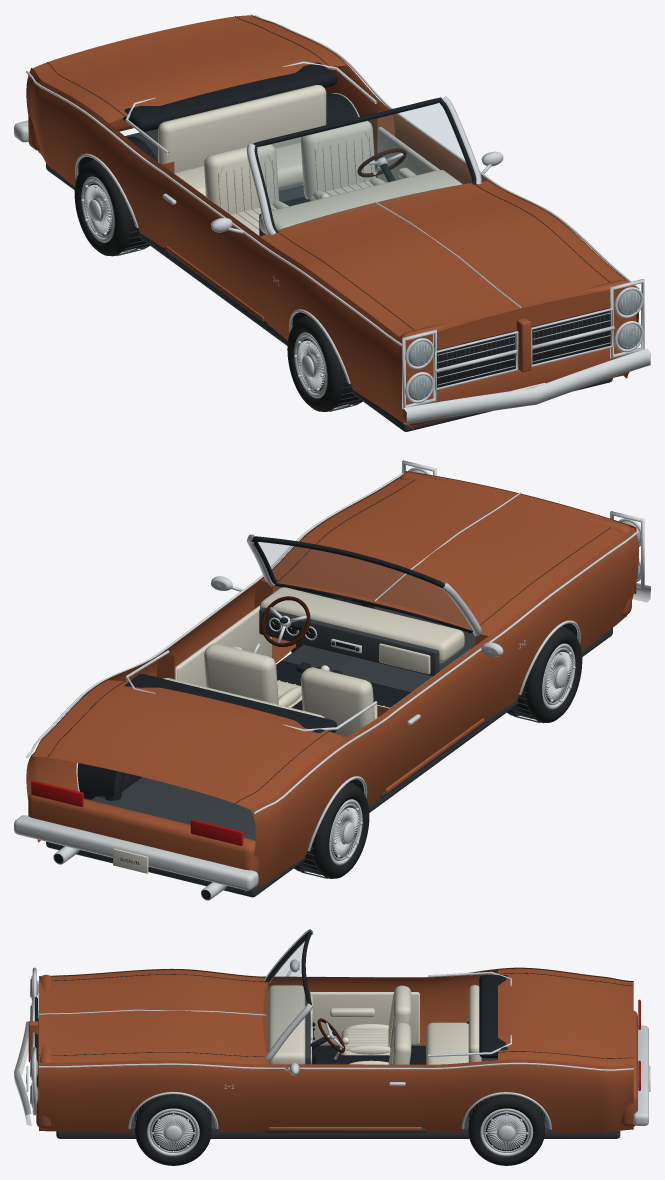
Rendered from craig.glb.
3 views of the same model, one above another, from view 1: azimuth 30°, elevation 25°; view 2: azimuth 150°, elevation 25°; view 3: azimuth 270°, elevation 25° (orthographic). The views are drawn at different scales.
Visible parts, largest first — view 1: Body, DoorMesh_R, WheelMesh_RR, WheelMesh_FR, DoorMesh_L, SteeringWheelMesh; view 2: Body, DoorMesh_R, DoorMesh_L, WheelMesh_FR, WheelMesh_RR, SteeringWheelMesh; view 3: Body, DoorMesh_L, DoorMesh_R, WheelMesh_FL, WheelMesh_RL, SteeringWheelMesh.
Boxes of the visible parts, x1,y1,x2,y2 form: Body: (14,14,650,431); DoorMesh_R: (156,161,265,321); WheelMesh_RR: (74,159,149,256); WheelMesh_FR: (287,315,362,411); DoorMesh_L: (377,109,503,184); SteeringWheelMesh: (357,148,406,177); Body: (14,460,650,900); DoorMesh_R: (377,634,503,793); DoorMesh_L: (156,576,272,686); WheelMesh_FR: (507,626,582,723); WheelMesh_RR: (294,782,369,878); SteeringWheelMesh: (261,596,310,646); Body: (14,929,650,1138); DoorMesh_L: (268,1063,422,1130); DoorMesh_R: (268,959,422,1045); WheelMesh_FL: (134,1094,212,1165); WheelMesh_RL: (468,1094,545,1165); SteeringWheelMesh: (317,1018,345,1052).
Size of the model in its own units: 2.41 by 1.58 by 5.83.
13 materials, 1 textured.
